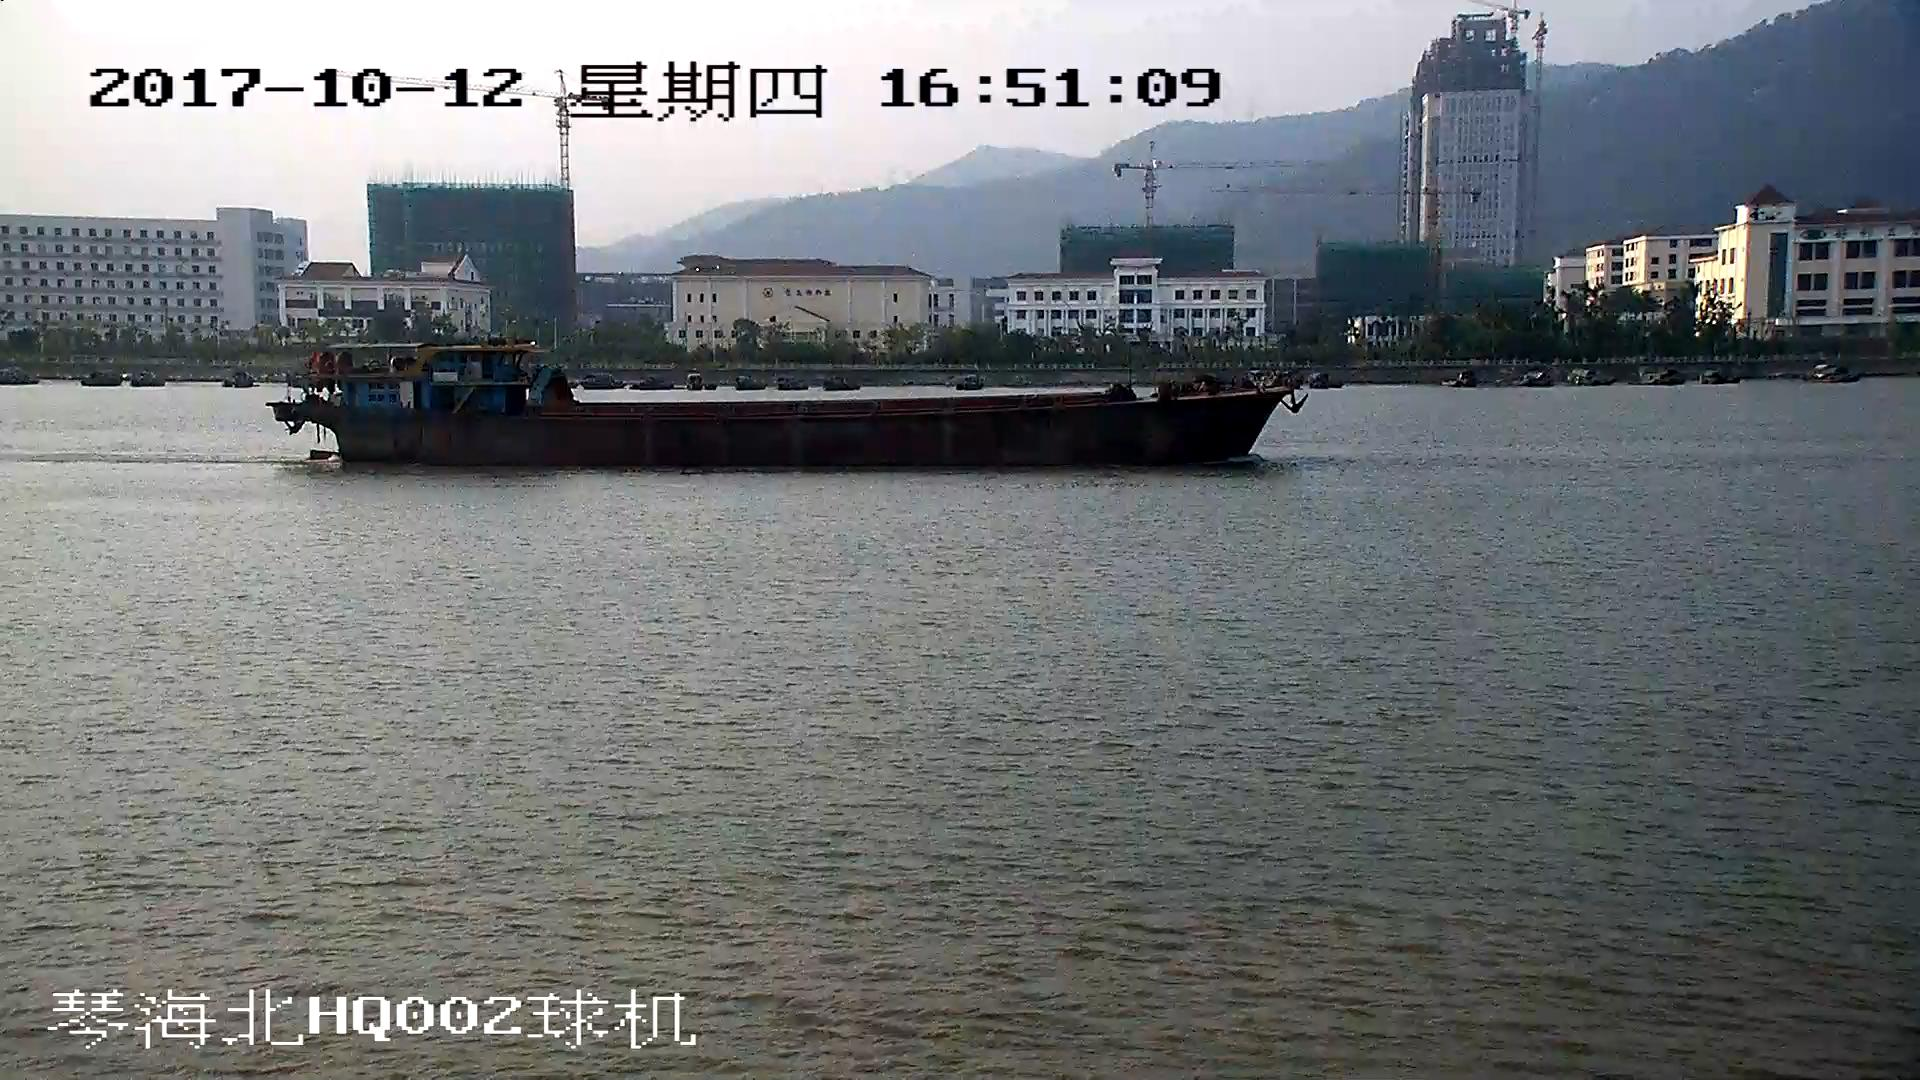bulk cargo carrier: (275, 337, 1297, 473)
